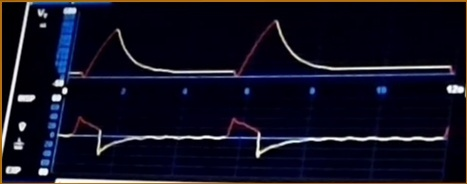Flow: (65, 108, 450, 174)
Leakage Volume: (74, 16, 442, 84)
